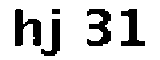1: (118, 6, 148, 50)
3: (81, 5, 113, 50)
h: (11, 6, 43, 49)
j: (42, 4, 63, 60)
